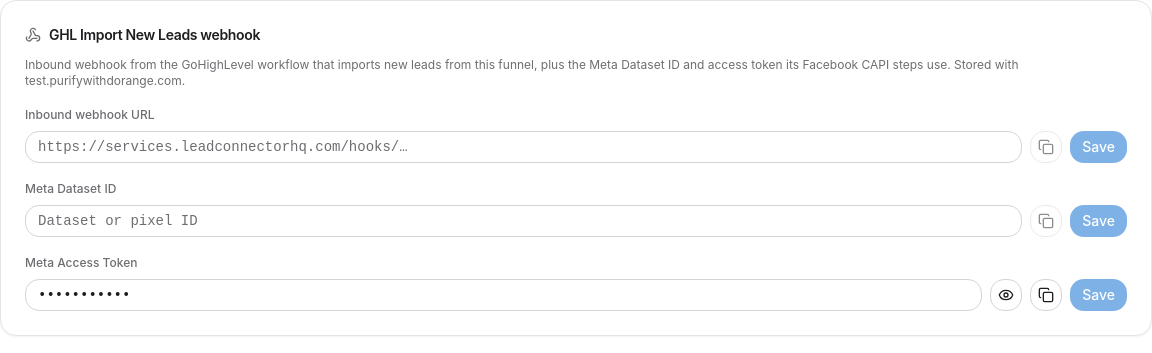
GhlInboundWebhookCard › masks the Meta access token, reveals it, and saves a replacement
Later steps or results of the test are not shown.
Expected: the password field labelled "Meta Access Token" holds "EAAB-secret", top-left (25, 279), bottom-right (982, 311)
Click the button named "Copy Meta Access Token" at (1046, 295), box top-left (1030, 279), bottom-right (1062, 311)
Click the button named "Show Meta Access Token" at (1006, 295), box top-left (990, 279), bottom-right (1022, 311)
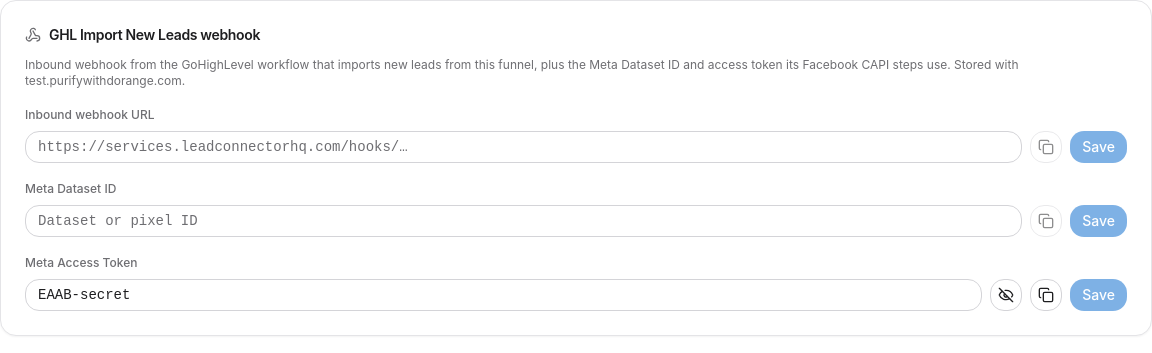
Now the field labelled "Meta Access Token" shows its text, box top-left (25, 279), bottom-right (982, 311)
Click the button named "Hide Meta Access Token" at (1006, 295), box top-left (990, 279), bottom-right (1022, 311)
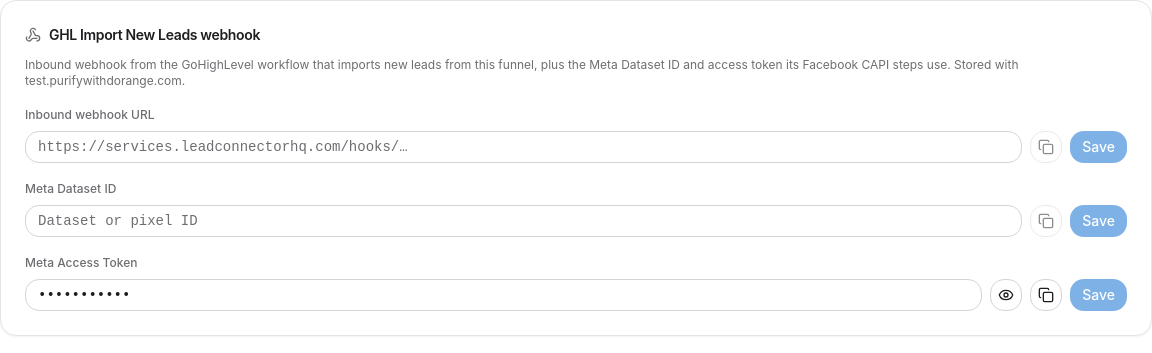
Now the password field labelled "Meta Access Token" hides its text, box top-left (25, 279), bottom-right (982, 311)
